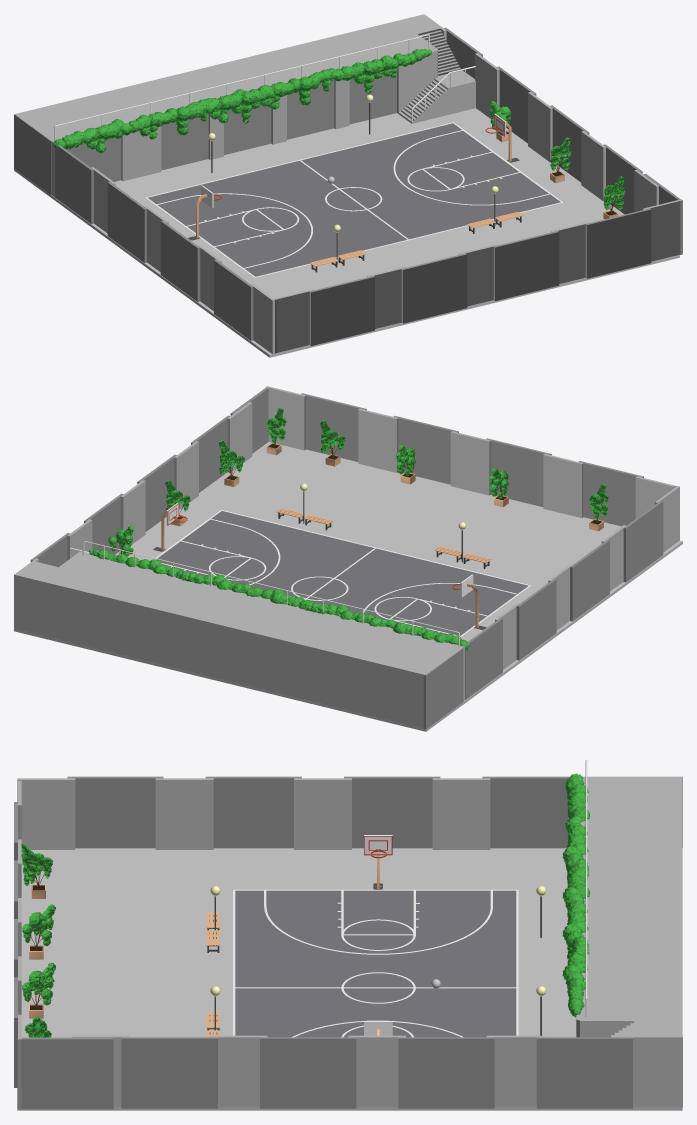
Rendered from basketball_court.obj.
3 views of the same model, one above another, from view 1: azimuth 30°, elevation 25°; view 2: azimuth 150°, elevation 25°; view 3: azimuth 270°, elevation 25° (orthographic). The views are drawn at different scales.
Parts seen in each view (by area): view 1: obj3, obj2, obj95, obj96, obj29, obj28, obj153, obj155, obj154, obj152, obj144, obj145 (+25 smaller); view 2: obj95, obj2, obj3, obj153, obj154, obj155, obj152, obj143, obj145, obj157, obj158, obj144 (+25 smaller); view 3: obj2, obj3, obj95, obj102, obj103, obj104, obj105, obj101, obj145, obj144, obj142, obj143 (+19 smaller).
Boxes of the visible parts, box(x1,y1,x2,y2) form: obj3: box(148, 123, 560, 276); obj2: box(14, 108, 679, 357); obj95: box(14, 20, 437, 196); obj96: box(54, 72, 396, 196); obj29: box(188, 49, 431, 123); obj28: box(53, 79, 300, 153); obj153: box(401, 253, 467, 323); obj155: box(585, 208, 651, 278); obj154: box(493, 231, 559, 301); obj152: box(309, 276, 374, 345); obj144: box(160, 220, 200, 301); obj145: box(214, 259, 253, 340); obj95: box(39, 551, 465, 728); obj2: box(14, 442, 682, 731); obj3: box(156, 511, 528, 635); obj153: box(486, 438, 551, 507); obj154: box(393, 415, 458, 484); obj155: box(301, 393, 366, 461); obj152: box(578, 461, 643, 526); obj143: box(516, 579, 556, 660); obj145: box(623, 501, 663, 582); obj157: box(543, 454, 583, 517); obj158: box(450, 431, 490, 495); obj144: box(570, 540, 609, 621); obj2: box(17, 848, 682, 1110); obj3: box(235, 890, 516, 1037); obj95: box(576, 776, 682, 1037); obj102: box(121, 1037, 217, 1108); obj103: box(260, 1037, 356, 1108); obj104: box(398, 1037, 494, 1108); obj105: box(536, 1037, 632, 1108); obj101: box(17, 1037, 113, 1109); obj145: box(67, 776, 163, 848); obj144: box(205, 776, 301, 848); obj142: box(482, 776, 570, 848); obj143: box(344, 776, 440, 848).
Size of the model in its own units: 3233 by 529 by 3470.
